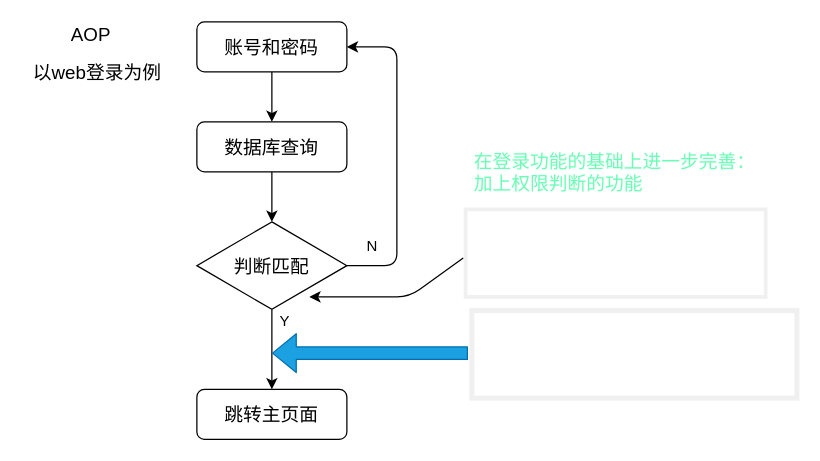
Some shapes in this 820 by 461 pixel diagram are drawn without their labels. The shapes that lost their labels are listed below. From the top down, each one's centre as x and y in pixels, then its label:
pixel 615 252: 原始方式： 在业务逻辑的源代码进行修改， 使用if...else...进行用户权限的判断
pixel 634 354: AOP思想实现： 单独实现一个权限判断的功能模块， 通过某种方式配置(横插进去)
